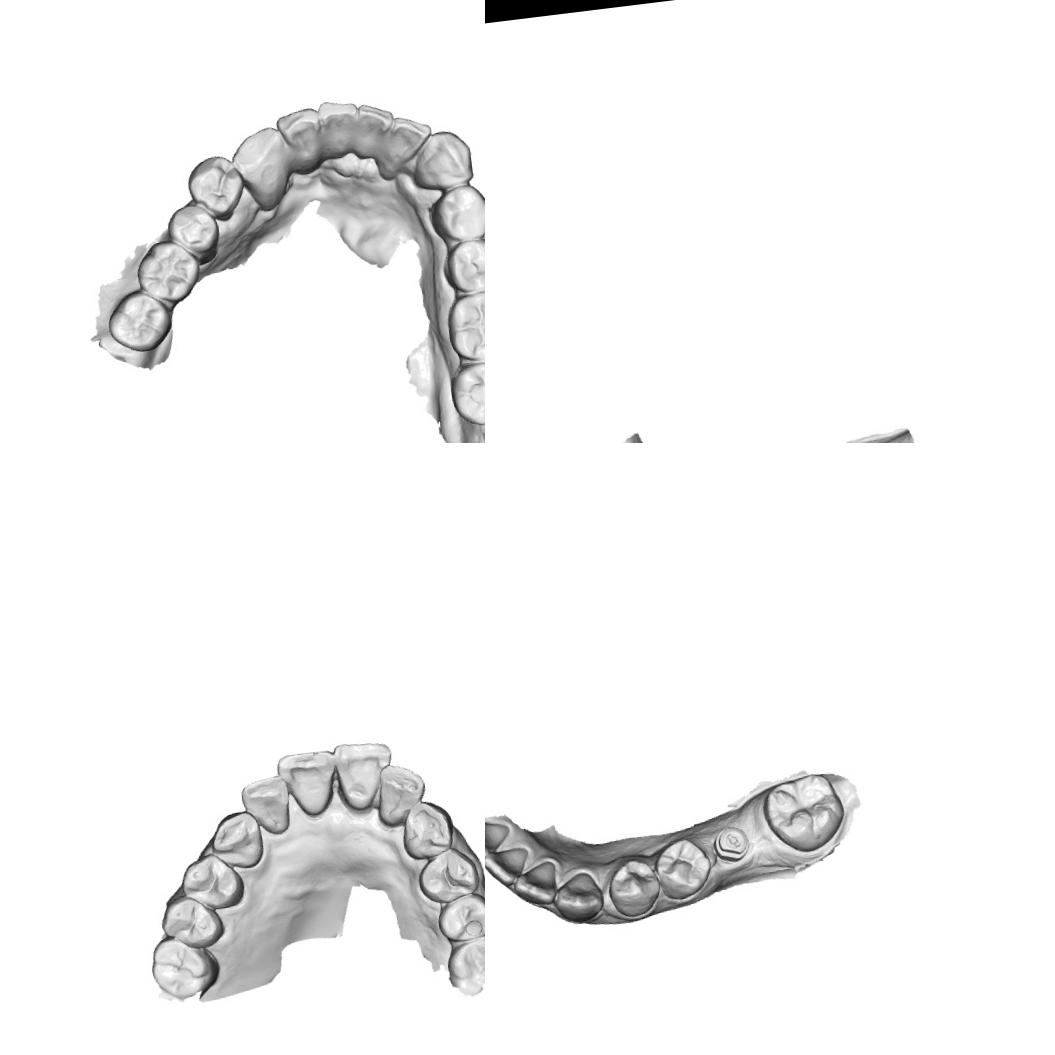canine: (224, 122, 297, 215), (402, 126, 478, 196), (397, 797, 457, 862), (207, 808, 266, 872), (550, 869, 607, 926)
implant_minus: (711, 822, 752, 865)
incisor: (332, 738, 398, 812), (274, 746, 340, 820), (272, 103, 330, 177), (372, 760, 430, 828), (238, 773, 294, 839), (380, 110, 438, 171), (318, 95, 367, 162), (347, 98, 398, 161), (510, 859, 562, 910), (485, 844, 532, 890), (485, 813, 513, 860)
molar: (757, 767, 850, 858), (102, 284, 178, 358), (147, 928, 223, 1002), (131, 233, 205, 308), (445, 285, 485, 366), (446, 355, 485, 431), (443, 935, 485, 999)
premolar: (182, 152, 250, 226), (650, 834, 716, 904), (177, 850, 247, 914), (158, 890, 227, 954), (423, 179, 485, 246), (415, 844, 482, 906), (162, 198, 222, 266), (604, 856, 664, 920), (435, 890, 485, 944), (441, 236, 485, 296)
